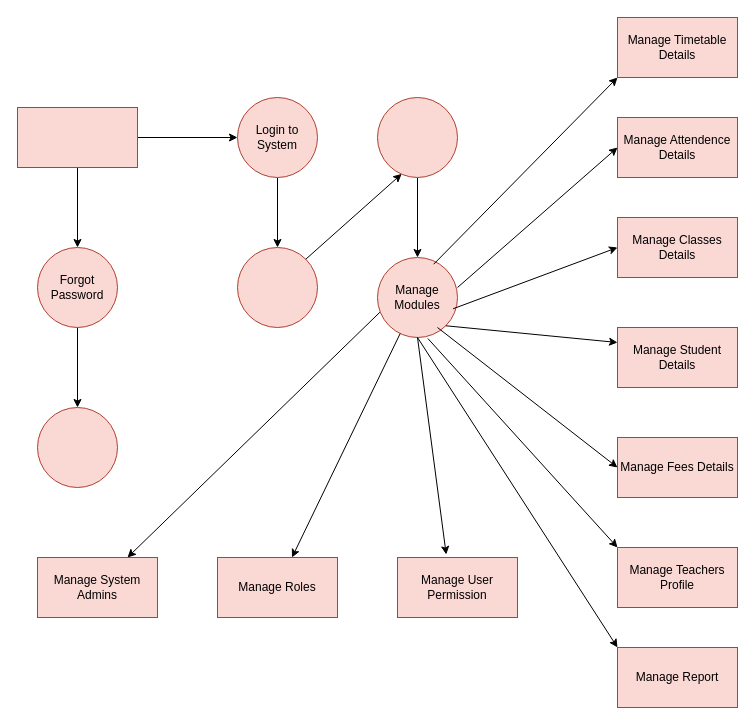
This 755x725 diagram has some shape labels left out. The shapes that lost their labels are listed below. From the top down, each one's centre as x and y in pixels, then its label:
point (77, 137): Admin
point (417, 137): Check role of Access
point (277, 287): Check Credentials
point (77, 447): Send Email to user
